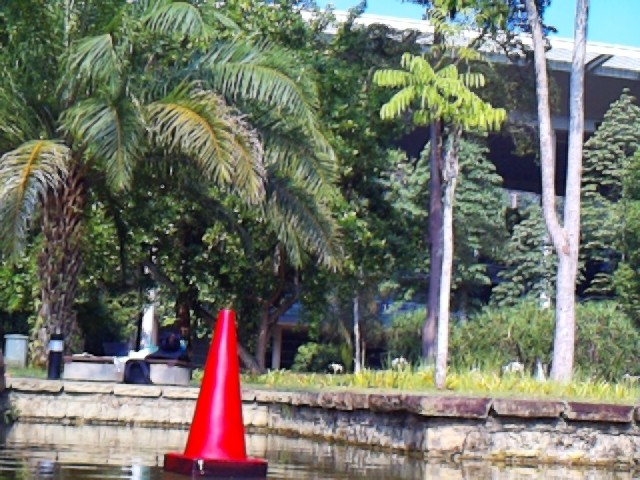obstacle: (164, 309, 269, 479)
